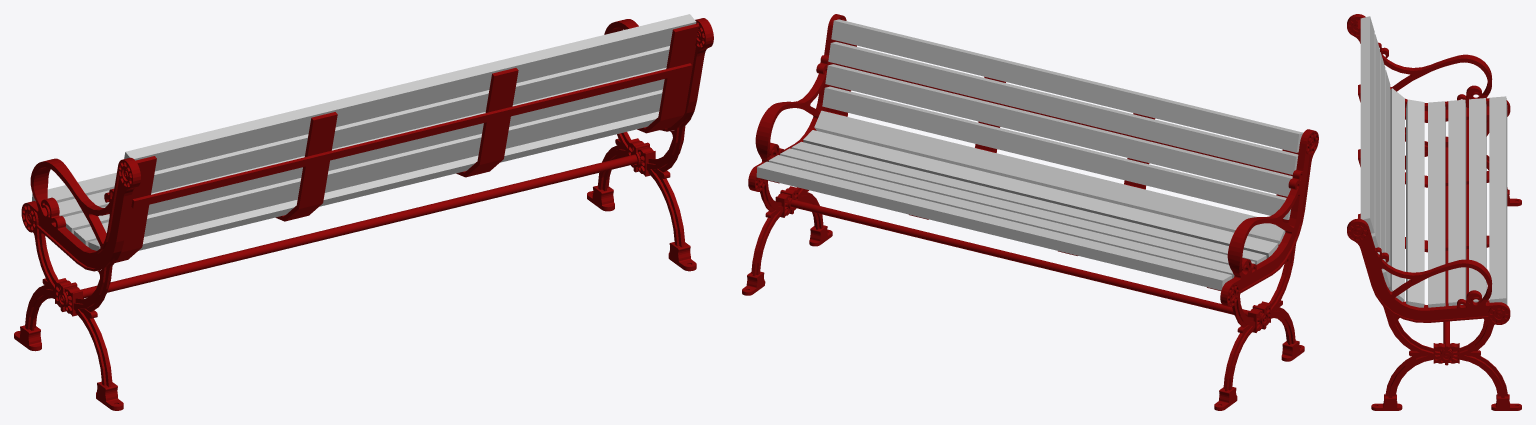
3 renders of one model, left to right at view 1: azimuth 30°, elevation 25°; view 2: azimuth 150°, elevation 25°; view 3: azimuth 270°, elevation 25°, orthographic. The views are drawn at different scales.
Visible parts, largest first — view 1: mesh5_mesh5-geometry, mesh121_mesh121-geometry, mesh124_mesh124-geometry, mesh122_mesh122-geometry, mesh130_mesh130-geometry, mesh123_mesh123-geometry, mesh141_mesh141-geometry, mesh119_mesh119-geometry, mesh143_mesh143-geometry, mesh144_mesh144-geometry, mesh145_mesh145-geometry, mesh146_mesh146-geometry (+1 smaller); view 2: mesh5_mesh5-geometry, mesh121_mesh121-geometry, mesh122_mesh122-geometry, mesh123_mesh123-geometry, mesh124_mesh124-geometry, mesh130_mesh130-geometry, mesh125_mesh125-geometry, mesh129_mesh129-geometry, mesh126_mesh126-geometry, mesh128_mesh128-geometry, mesh127_mesh127-geometry, mesh119_mesh119-geometry (+1 smaller); view 3: mesh5_mesh5-geometry, mesh125_mesh125-geometry, mesh127_mesh127-geometry, mesh129_mesh129-geometry, mesh128_mesh128-geometry, mesh126_mesh126-geometry, mesh121_mesh121-geometry, mesh130_mesh130-geometry, mesh122_mesh122-geometry, mesh124_mesh124-geometry, mesh123_mesh123-geometry, mesh119_mesh119-geometry (+4 smaller).
Boxes of the visible parts, left/top/right/bottom form: mesh5_mesh5-geometry: left=14, top=18, right=713, bottom=410; mesh121_mesh121-geometry: left=124, top=14, right=696, bottom=171; mesh124_mesh124-geometry: left=144, top=89, right=662, bottom=236; mesh122_mesh122-geometry: left=151, top=46, right=669, bottom=193; mesh130_mesh130-geometry: left=138, top=111, right=659, bottom=250; mesh123_mesh123-geometry: left=147, top=67, right=666, bottom=214; mesh141_mesh141-geometry: left=131, top=63, right=691, bottom=208; mesh119_mesh119-geometry: left=80, top=154, right=637, bottom=298; mesh143_mesh143-geometry: left=637, top=24, right=699, bottom=133; mesh144_mesh144-geometry: left=456, top=68, right=518, bottom=177; mesh145_mesh145-geometry: left=275, top=112, right=337, bottom=221; mesh146_mesh146-geometry: left=115, top=156, right=156, bottom=262; mesh5_mesh5-geometry: left=742, top=14, right=1318, bottom=410; mesh121_mesh121-geometry: left=831, top=19, right=1303, bottom=152; mesh122_mesh122-geometry: left=828, top=42, right=1298, bottom=174; mesh123_mesh123-geometry: left=825, top=64, right=1292, bottom=196; mesh124_mesh124-geometry: left=822, top=86, right=1290, bottom=219; mesh130_mesh130-geometry: left=814, top=110, right=1285, bottom=244; mesh125_mesh125-geometry: left=756, top=161, right=1232, bottom=290; mesh129_mesh129-geometry: left=803, top=130, right=1278, bottom=258; mesh126_mesh126-geometry: left=768, top=155, right=1234, bottom=278; mesh128_mesh128-geometry: left=791, top=141, right=1266, bottom=264; mesh127_mesh127-geometry: left=780, top=148, right=1254, bottom=264; mesh119_mesh119-geometry: left=790, top=199, right=1249, bottom=316; mesh5_mesh5-geometry: left=1347, top=14, right=1521, bottom=410; mesh125_mesh125-geometry: left=1489, top=96, right=1507, bottom=304; mesh127_mesh127-geometry: left=1448, top=99, right=1466, bottom=305; mesh129_mesh129-geometry: left=1406, top=99, right=1424, bottom=307; mesh128_mesh128-geometry: left=1428, top=101, right=1445, bottom=307; mesh126_mesh126-geometry: left=1469, top=98, right=1486, bottom=302; mesh121_mesh121-geometry: left=1360, top=16, right=1374, bottom=233; mesh130_mesh130-geometry: left=1388, top=88, right=1404, bottom=301; mesh122_mesh122-geometry: left=1371, top=34, right=1379, bottom=247; mesh124_mesh124-geometry: left=1382, top=70, right=1390, bottom=287; mesh123_mesh123-geometry: left=1377, top=52, right=1385, bottom=269; mesh119_mesh119-geometry: left=1443, top=147, right=1449, bottom=343.
Bounding box in the file's own units: 0.8771 × 0.3683 × 0.3083.
